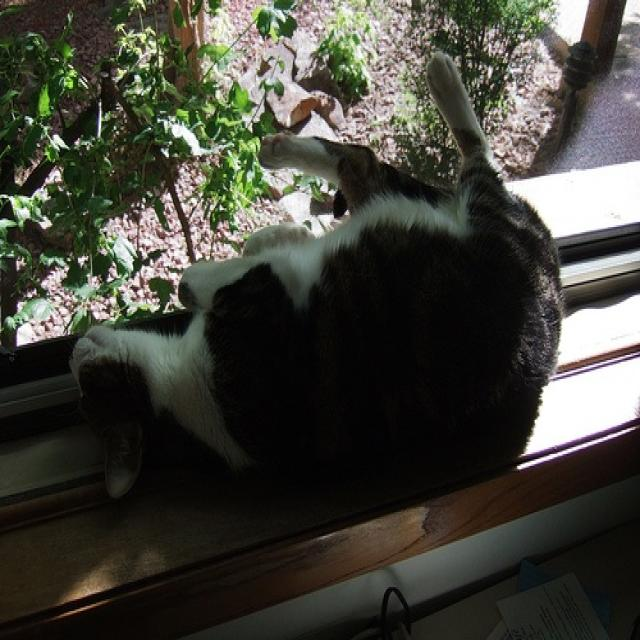cat: (70, 48, 564, 502)
